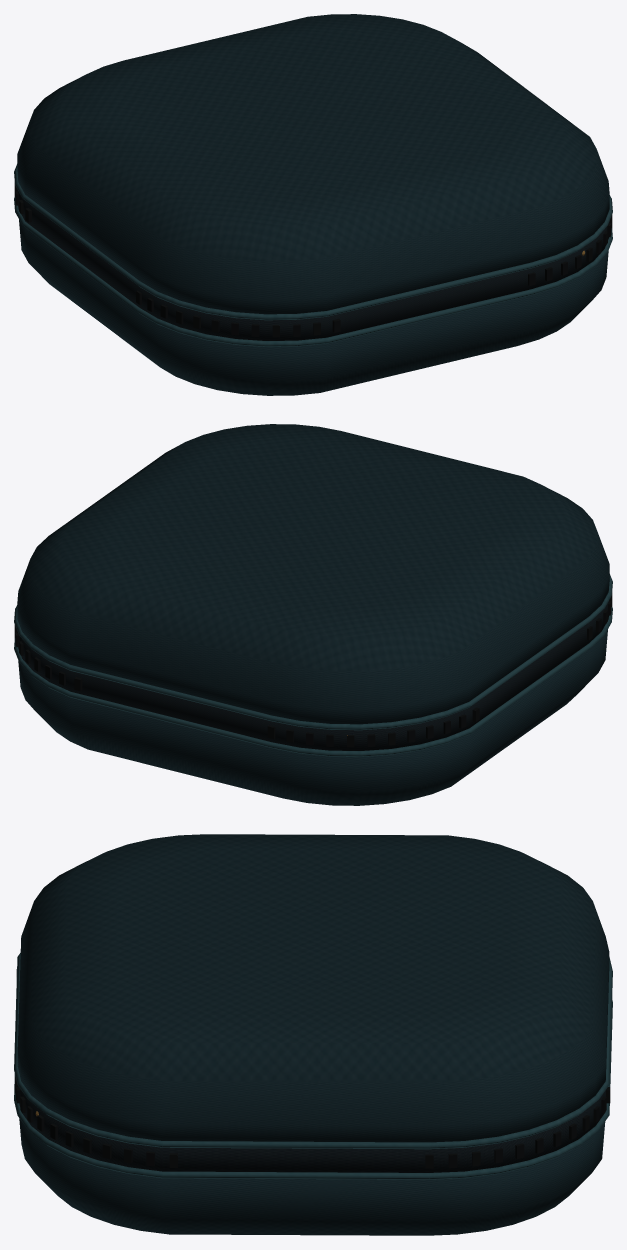
3 renders of one model, top to bottom at view 1: azimuth 30°, elevation 25°; view 2: azimuth 150°, elevation 25°; view 3: azimuth 270°, elevation 25°, orthographic. The views are drawn at different scales.
Parts seen in each view (by area): view 1: bb_set_headphone_case; view 2: bb_set_headphone_case; view 3: bb_set_headphone_case.
Part boxes in pixels (<box>): bb_set_headphone_case: <box>14,14,612,395</box>; bb_set_headphone_case: <box>14,424,612,805</box>; bb_set_headphone_case: <box>14,834,612,1235</box>.
Size of the model in its own units: 0.16 by 0.06 by 0.16.
1 material, 1 textured.
